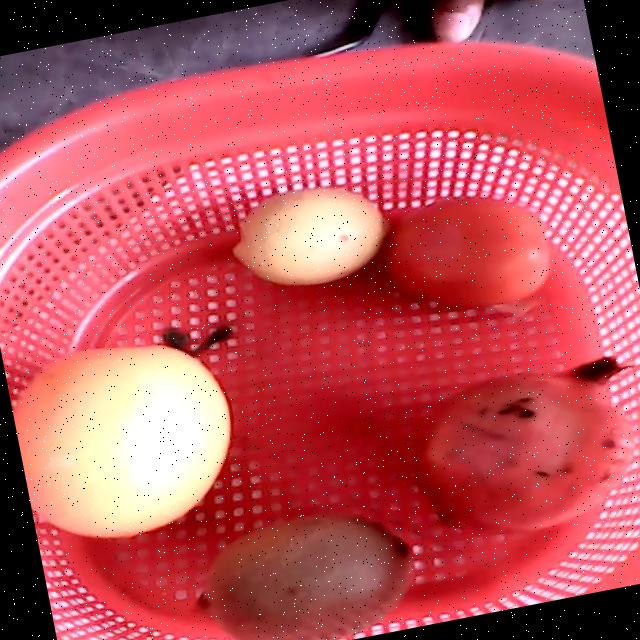apple: (197, 517, 412, 640)
lemon: (229, 188, 381, 285)
orange: (12, 347, 231, 542)
pomegranate: (410, 356, 634, 534)
tomato: (386, 196, 547, 307)
